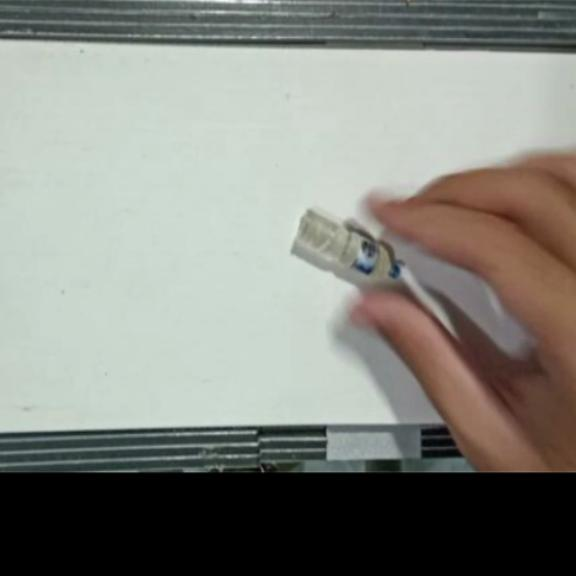Plastik: (294, 210, 400, 280)
